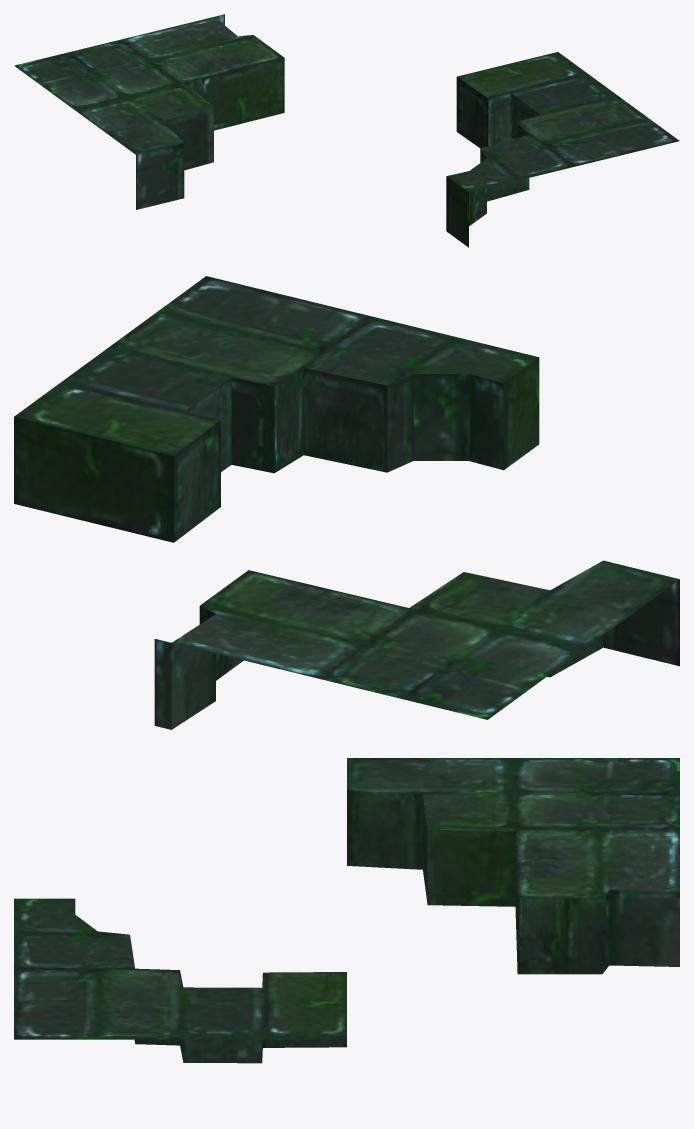
File: stemple_floor_diagonal_noshadow_03a.fbx
3 renders of one model, top to bottom at view 1: azimuth 30°, elevation 25°; view 2: azimuth 150°, elevation 25°; view 3: azimuth 270°, elevation 25°, orthographic. The views are drawn at different scales.
Visible parts, largest first — view 1: sunken_tileset/sunken_floor02_mat; view 2: sunken_tileset/sunken_floor02_mat; view 3: sunken_tileset/sunken_floor02_mat.
Boxes of the visible parts, <box> form: sunken_tileset/sunken_floor02_mat: <box>14,14,679,247</box>; sunken_tileset/sunken_floor02_mat: <box>14,276,679,729</box>; sunken_tileset/sunken_floor02_mat: <box>14,758,679,1063</box>.
Bounding box in the file's own units: 4 × 0.5 × 4.
